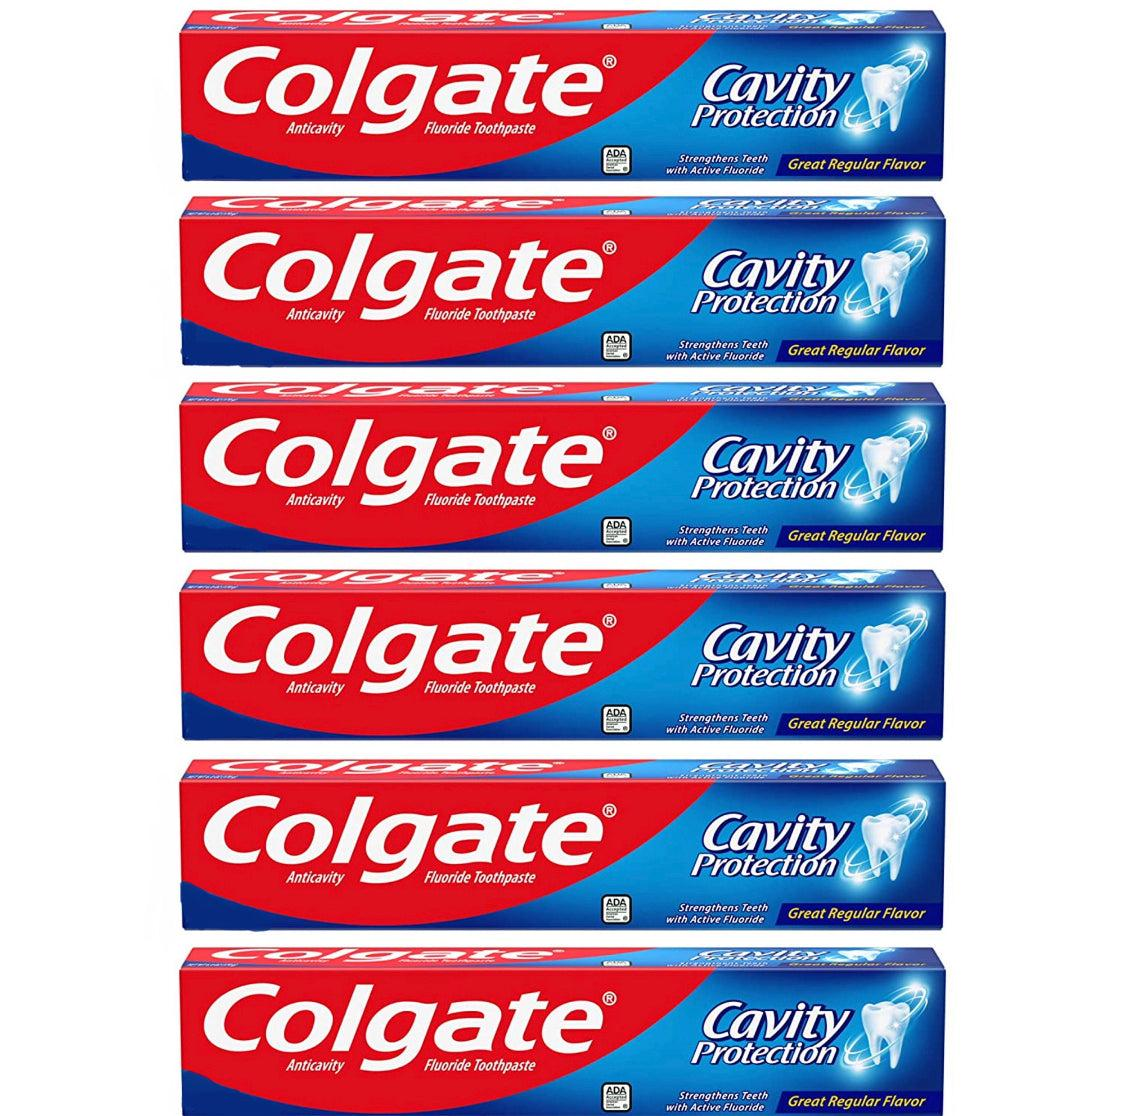toothpaste: (173, 187, 949, 367), (175, 748, 944, 929), (183, 4, 950, 185), (178, 380, 950, 557), (175, 942, 944, 1116), (180, 568, 945, 737)
